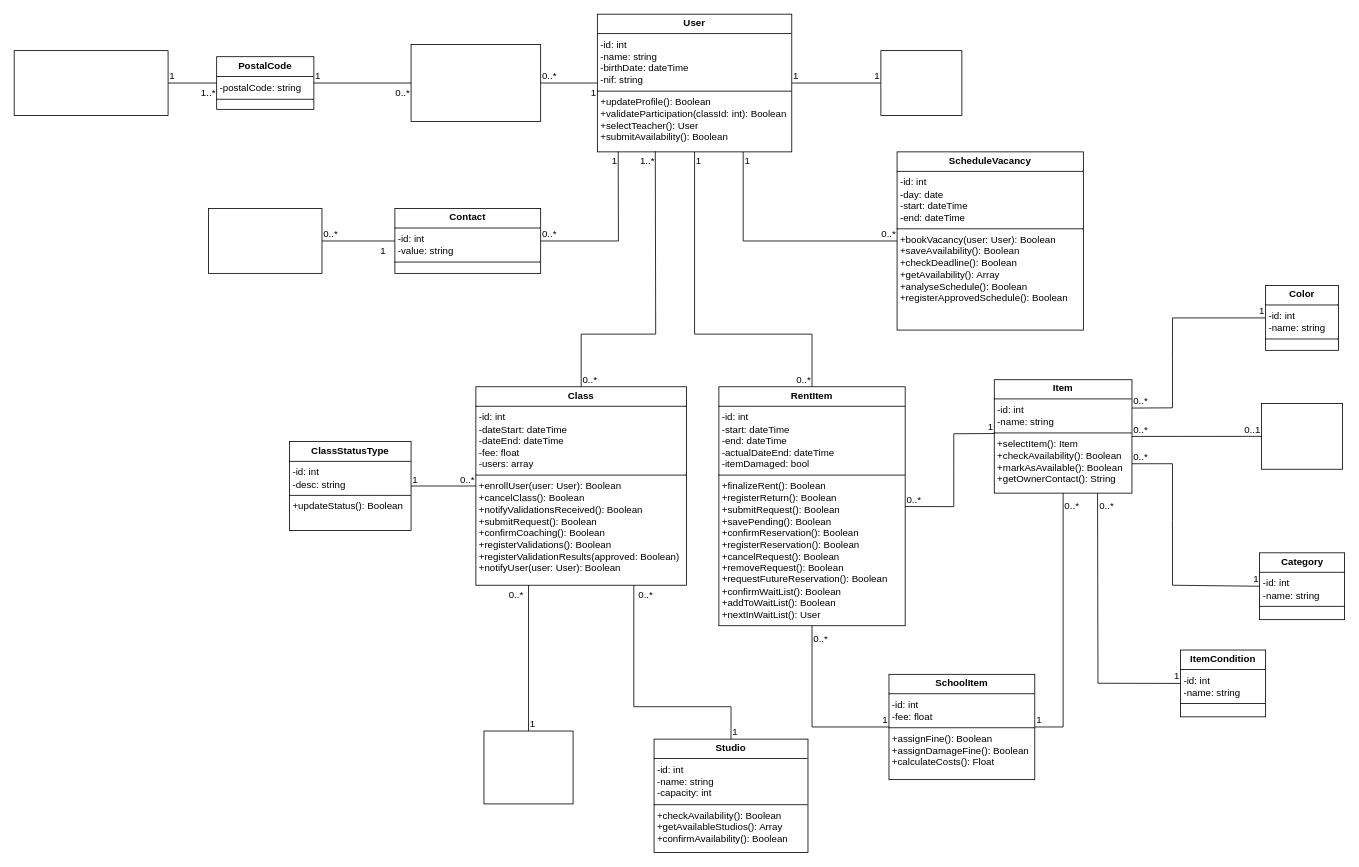
Image size: 1359x867. Some labels were removed from this diagram. The shapes that lost their labels are listed below. From the top down, each one's box as (x1, y1, x2, y2) in pixels, then its label:
(13, 50, 168, 115): Locality -id: int -name: string
(410, 44, 541, 122): Address -id: int -name: string -postalCode: string
(880, 50, 962, 115): UserType -id: int -desc: string
(208, 208, 322, 273): ContactType -id: int -desc: string
(1261, 403, 1343, 469): Size -id: int -name: string
(483, 730, 573, 804): Modality -id: int -name: string
